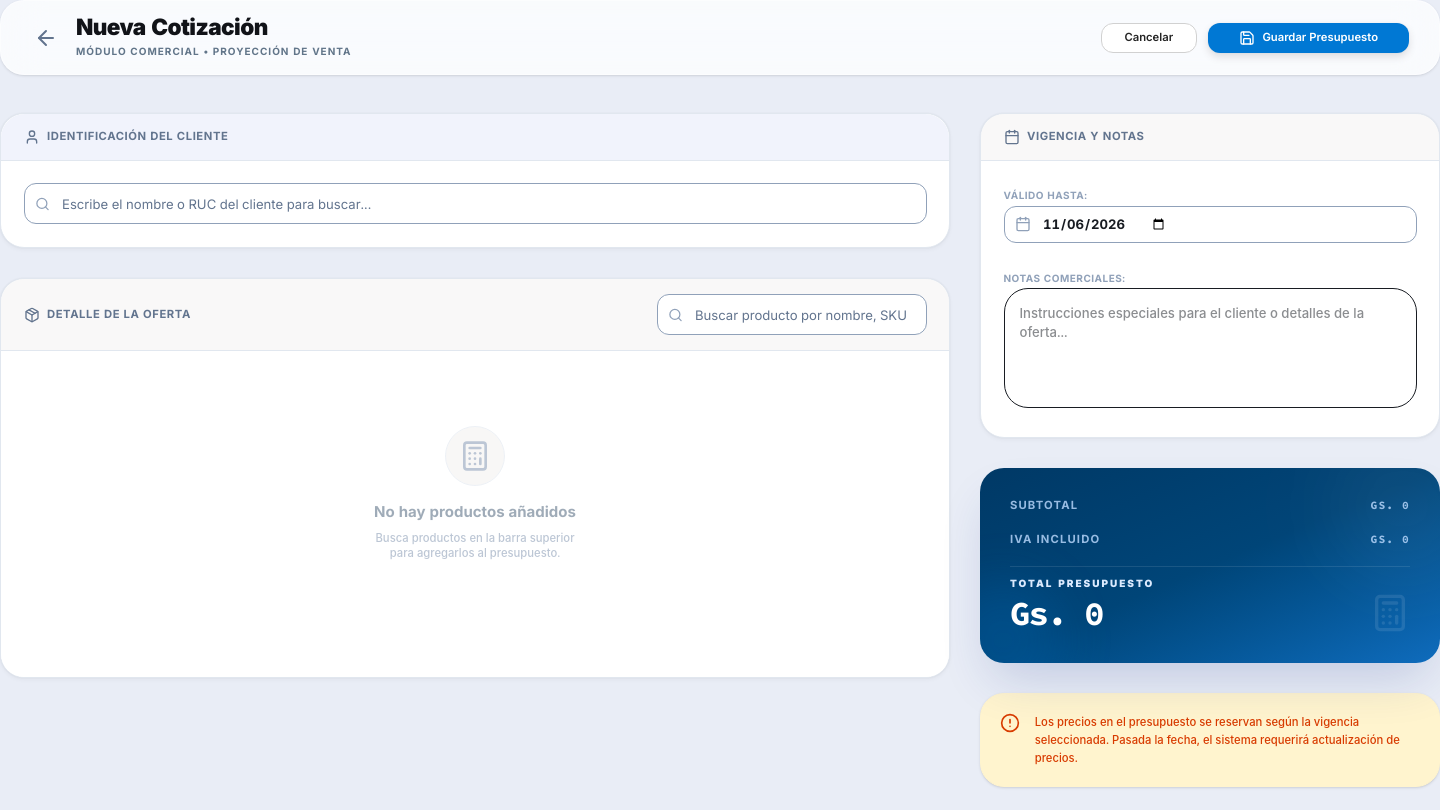
BudgetCreate (nuevo presupuesto) › hace fallback a la búsqueda legacy por-producto si la plana falla
In the field with placeholder "Buscar producto por nombre, SKU o variante...": (792, 315) [656,294,926,335], type "adid"
Wait 310 ms
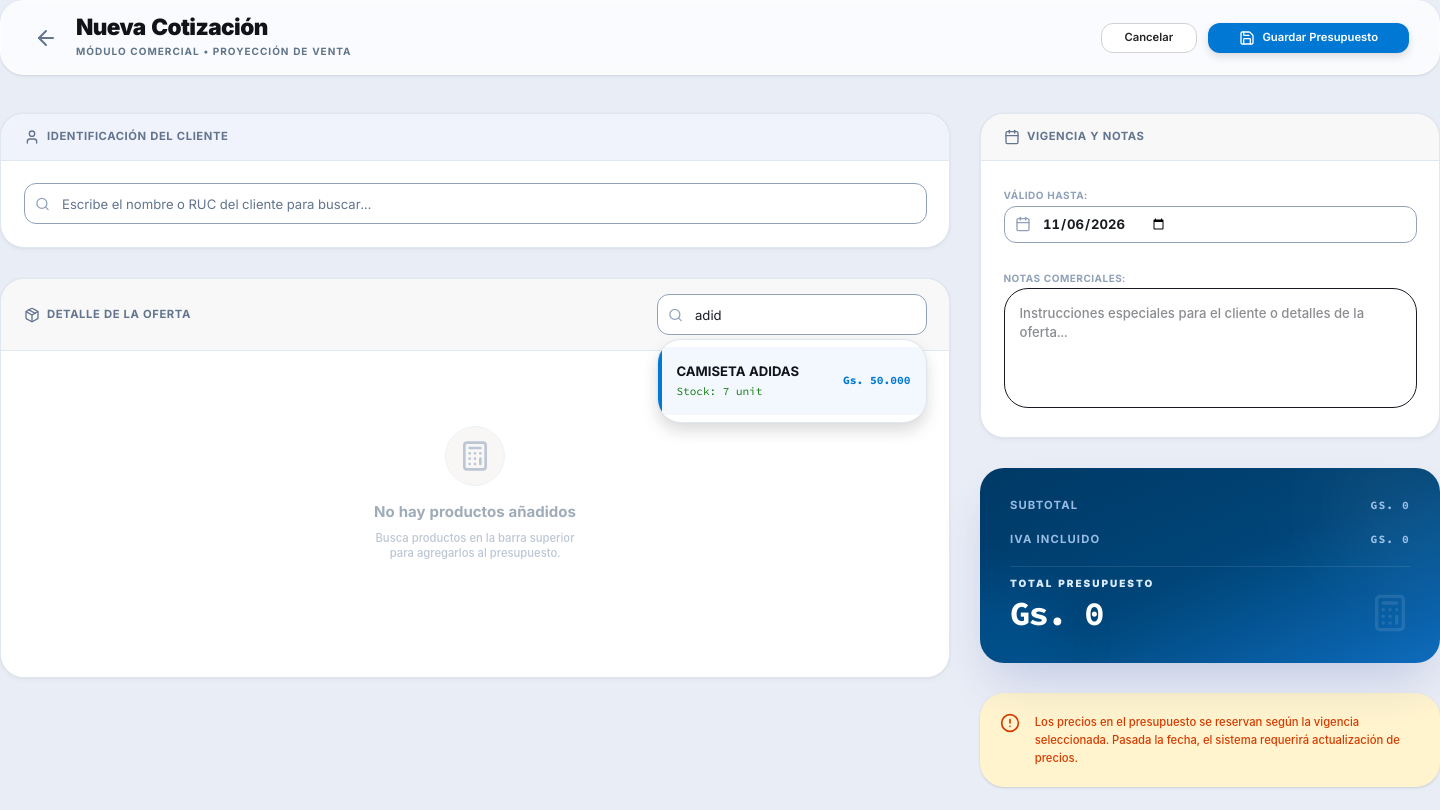
Expected: the text "CAMISETA ADIDAS" is shown, [676,363,799,379]
